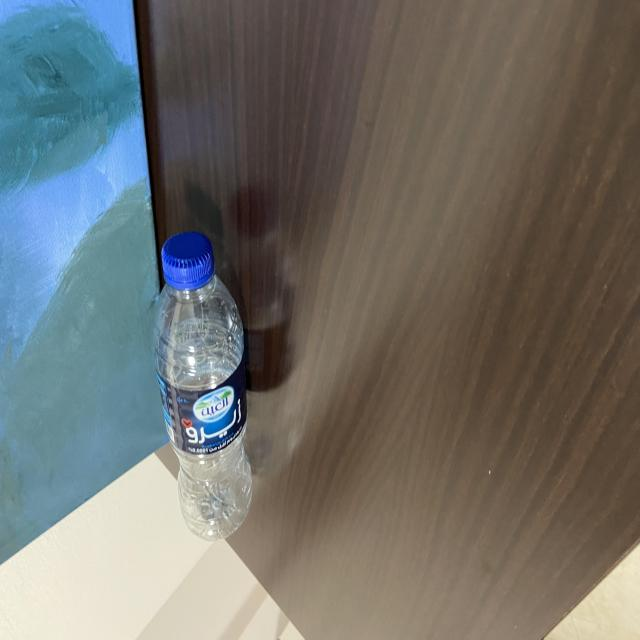bottle: (138, 228, 274, 550)
